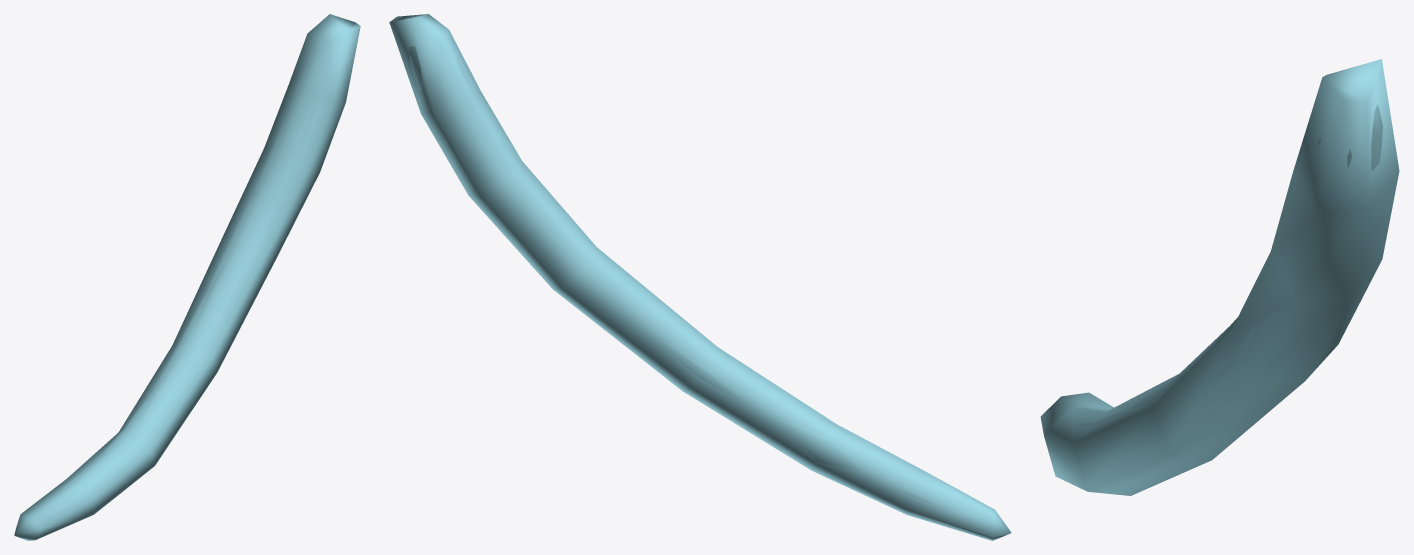
3 renders of one model, left to right at view 1: azimuth 30°, elevation 25°; view 2: azimuth 150°, elevation 25°; view 3: azimuth 270°, elevation 25°, orthographic. The views are drawn at different scales.
Visible parts, largest first — view 1: CC L2 low, CC L2; view 2: CC L2 low, CC L2; view 3: CC L2 low, CC L2.
Boxes of the visible parts, <box> form: CC L2 low: <box>14,14,360,540</box>; CC L2: <box>61,23,348,489</box>; CC L2 low: <box>389,14,1011,540</box>; CC L2: <box>406,18,938,506</box>; CC L2 low: <box>1040,59,1399,495</box>; CC L2: <box>1069,82,1382,426</box>.
Size of the model in its own units: 1.47 by 1.27 by 0.5475.
